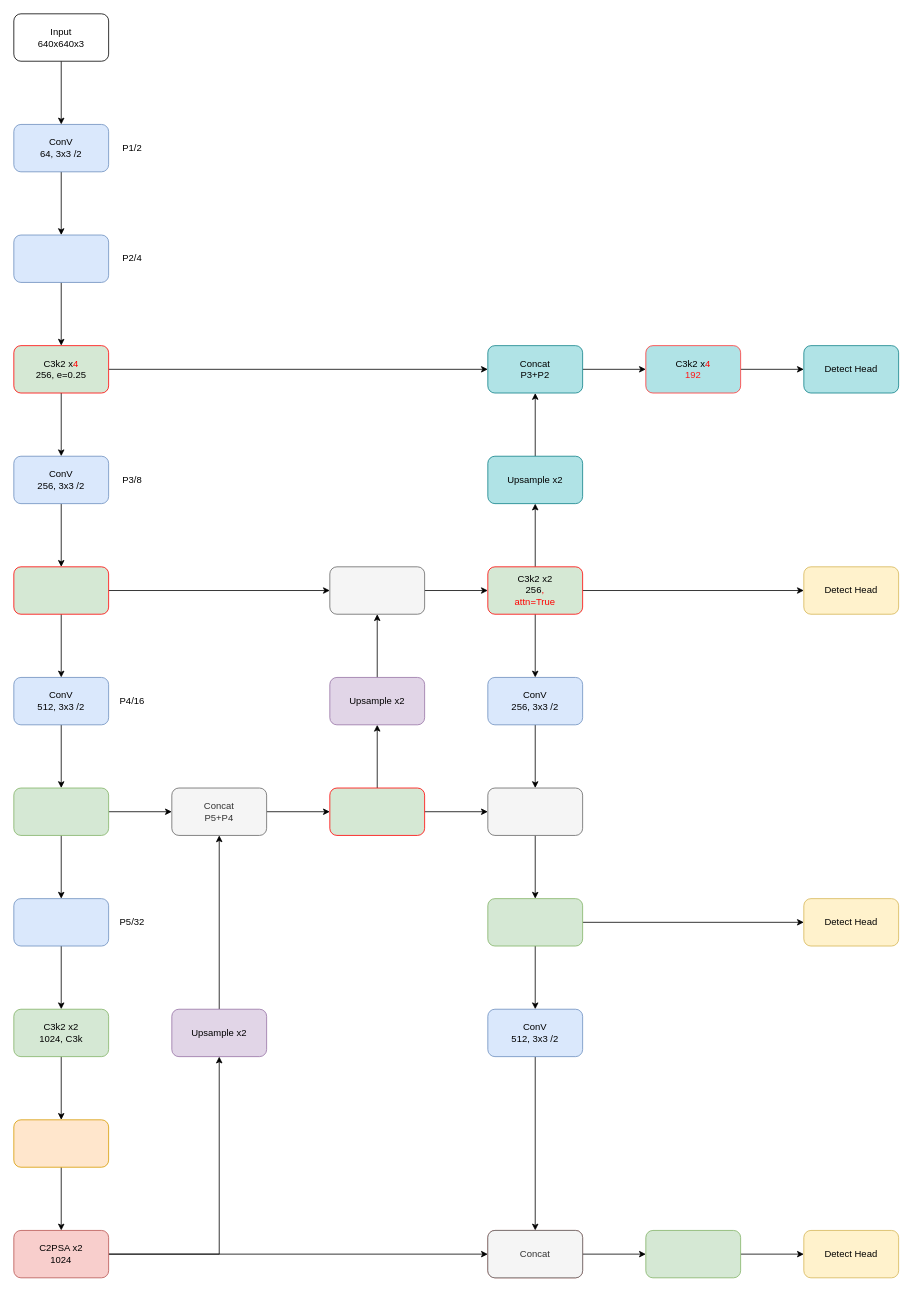
Image size: 912x1292. Some labels were removed from this diagram. Here are the shapes that lost their labels. From the top down, the box of each, then its label:
(13, 234, 109, 282): ConV 128, 3x3 /2
(13, 566, 109, 614): C3k2 x 4 512, e=0.25
(329, 566, 425, 614): Concat P4+P3
(13, 787, 109, 835): C3k2 x2 512, C3k
(329, 787, 425, 835): C3k2 x2 512 , attn=True
(487, 787, 583, 835): Concat P3+P4
(13, 898, 109, 946): ConV 1024, 3x3 /2
(487, 898, 583, 946): C3k2 x2 512
(13, 1119, 109, 1167): SPPF 1024, k=5
(645, 1230, 741, 1278): C3k2 x2 1024, e=0.5, attn=True
